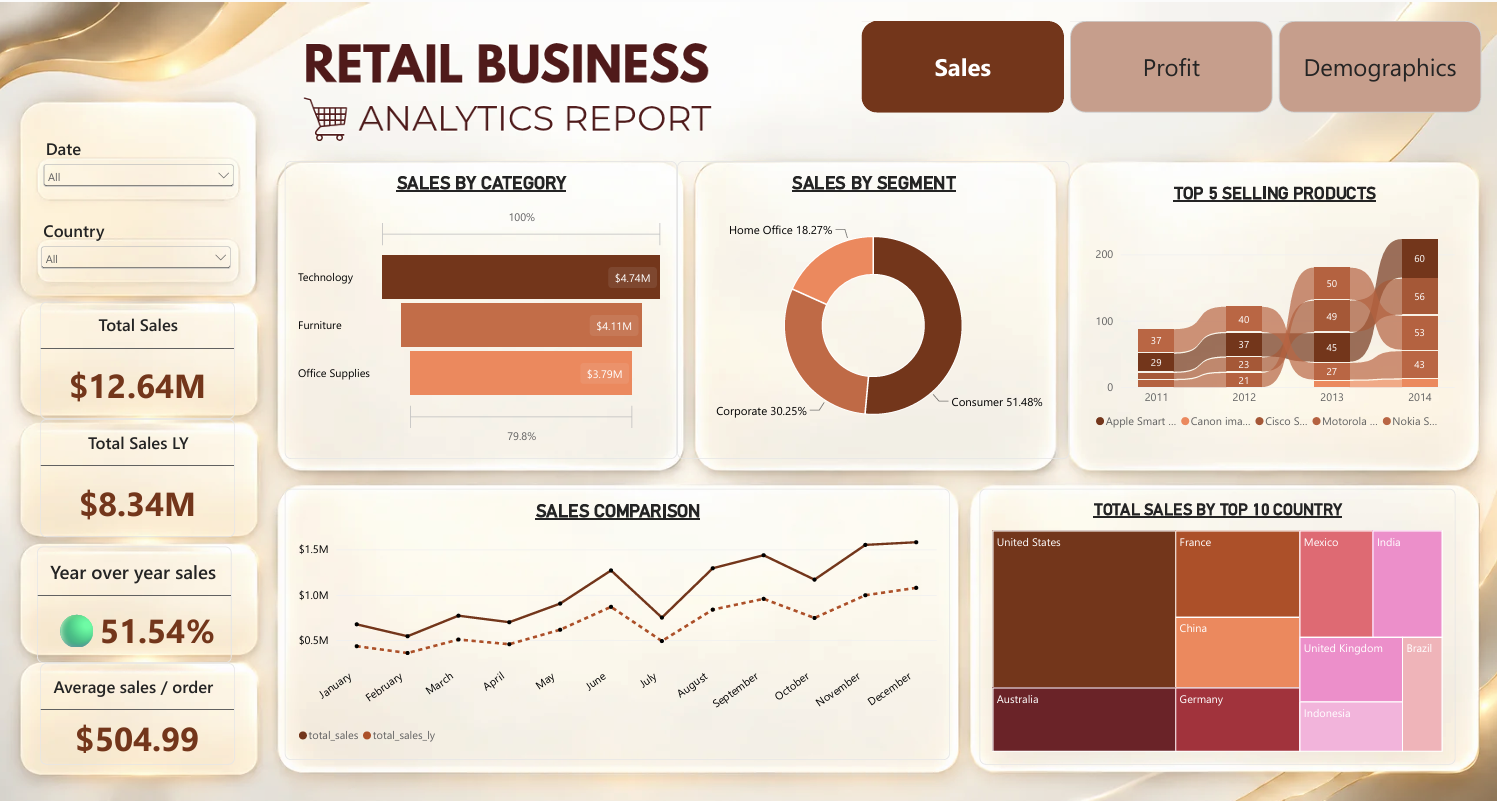

The page's visual inventory and layout, read from the dashboard file:
{"tool":"powerbi","page":{"name":"Sales","canvas":[1920,1080],"ordinal":0},"visuals":[{"type":"pageNavigator","box":[1103.8,49.1,793.3,117.8],"z":0},{"type":"card","title":"Total Sales","fields":{"Values":["Calculated_table.total_sales"]},"box":[52.8,407.5,249.1,150.3],"z":1},{"type":"card","title":"Total Sales LY","fields":{"Values":["Calculated_table.total_sales_ly"]},"box":[52.8,558.5,249.1,150.9],"z":2},{"type":"card","title":"Year over year sales","fields":{"Values":["Calculated_table.yoy_growth"]},"box":[49.1,720.8,249.1,149.1],"z":3},{"type":"card","title":"Average sales / order","fields":{"Values":["Calculated_table.Average_sales_per_order"]},"box":[52.8,869.8,249.1,130.2],"z":4},{"type":"slicer","fields":{"Values":["date_table.Date.Variation.Date Hierarchy.Year","date_table.Date.Variation.Date Hierarchy.Month"]},"box":[52.5,197.3,253.4,86.9],"z":5},{"type":"funnel","title":"SALES BY CATEGORY","fields":{"Category":["product_table.Category"],"Y":["Calculated_table.total_sales"]},"box":[366,228.3,501.9,381.1],"z":6},{"type":"donutChart","title":"SALES BY SEGMENT","fields":{"Category":["customer_table.Segment"],"Y":["Calculated_table.total_sales"]},"box":[867.9,228.3,501.9,381.1],"z":7},{"type":"ribbonChart","title":"TOP 5 SELLING PRODUCTS","fields":{"Category":["date_table.Date.Variation.Date Hierarchy.Year"],"Series":["product_table.Product Name"],"Y":["Calculated_table.total_quantity"]},"box":[1386.8,241.5,492.5,349.1],"z":8},{"type":"lineChart","title":"SALES COMPARISON","fields":{"Category":["date_table.Date.Variation.Date Hierarchy.Month"],"Y":["Calculated_table.total_sales","Calculated_table.total_sales_ly"]},"box":[366,647.2,850.9,347.2],"z":9},{"type":"treemap","title":"TOTAL SALES BY TOP 10 COUNTRY","fields":{"Group":["location_table.Country"],"Values":["Calculated_table.total_sales"]},"box":[1254.7,647.2,609.4,352.8],"z":10},{"type":"slicer","fields":{"Values":["location_table.Country"]},"box":[49.1,301.9,252.8,90.6],"z":12}]}

Visuals, with their boxes on the page's 1920x1080 design canvas (x1, y1, x2, y2). These are canvas units, not pixel positions in the 1497x801 screenshot, which may show the page scaled, cropped or inside an application window:
pageNavigator: {"x1": 1104, "y1": 49, "x2": 1897, "y2": 167}
"Total Sales" card: {"x1": 53, "y1": 408, "x2": 302, "y2": 558}
"Total Sales LY" card: {"x1": 53, "y1": 558, "x2": 302, "y2": 709}
"Year over year sales" card: {"x1": 49, "y1": 721, "x2": 298, "y2": 870}
"Average sales / order" card: {"x1": 53, "y1": 870, "x2": 302, "y2": 1000}
slicer - date_table.Date.Variation.Date Hierarchy.Year x date_table.Date.Variation.Date Hierarchy.Month: {"x1": 52, "y1": 197, "x2": 306, "y2": 284}
"SALES BY CATEGORY" funnel: {"x1": 366, "y1": 228, "x2": 868, "y2": 609}
"SALES BY SEGMENT" donutChart: {"x1": 868, "y1": 228, "x2": 1370, "y2": 609}
"TOP 5 SELLING PRODUCTS" ribbonChart: {"x1": 1387, "y1": 242, "x2": 1879, "y2": 591}
"SALES COMPARISON" lineChart: {"x1": 366, "y1": 647, "x2": 1217, "y2": 994}
"TOTAL SALES BY TOP 10 COUNTRY" treemap: {"x1": 1255, "y1": 647, "x2": 1864, "y2": 1000}
slicer - location_table.Country: {"x1": 49, "y1": 302, "x2": 302, "y2": 392}
